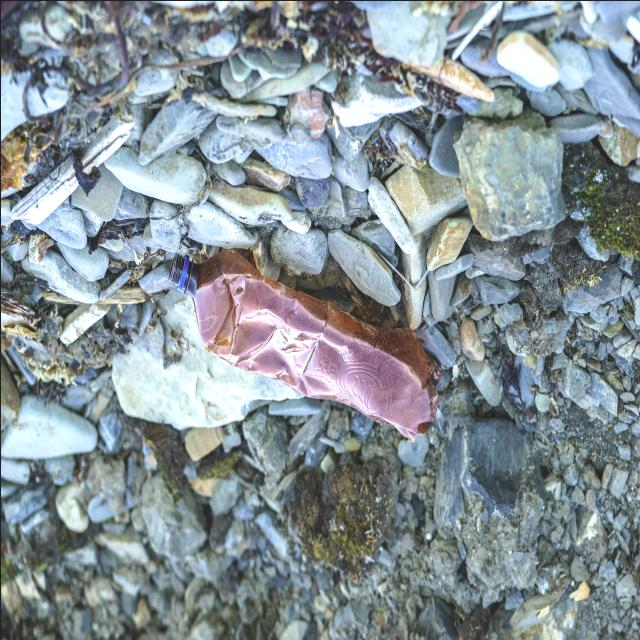Other plastic container: (167, 245, 442, 440)
